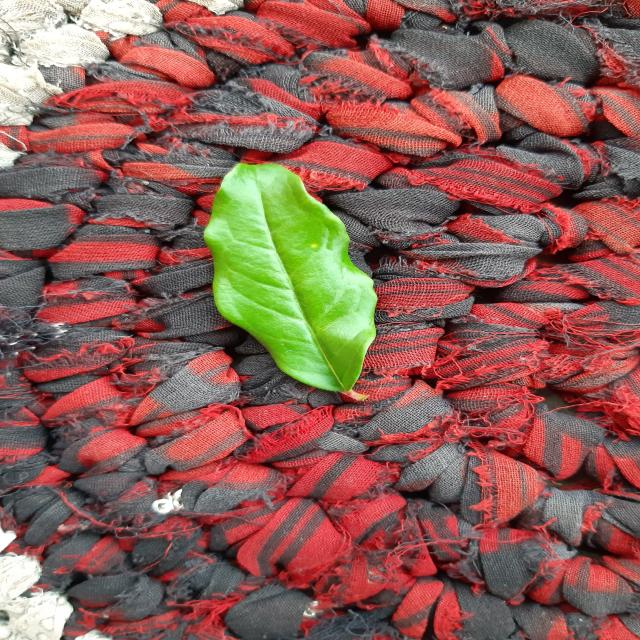pomgranate: (204, 164, 376, 394)
